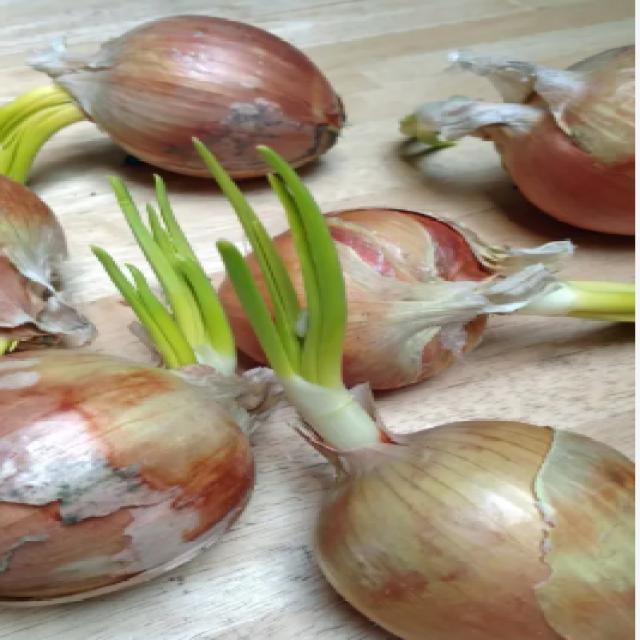sprouting: (215, 187, 634, 640), (9, 251, 254, 603), (246, 193, 640, 356), (0, 28, 317, 172)
